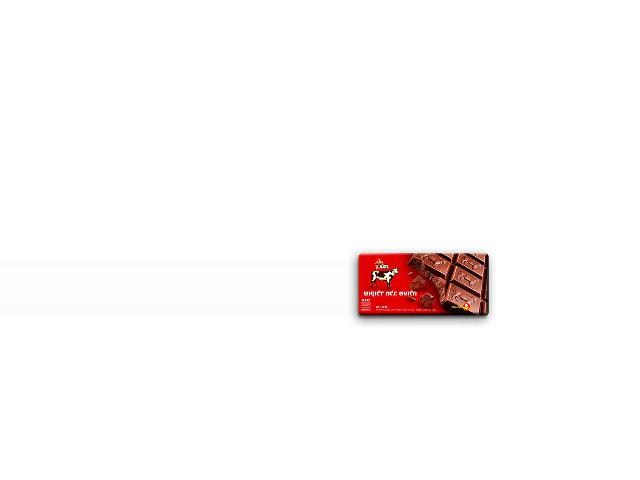chocolate: (354, 250, 491, 320)
